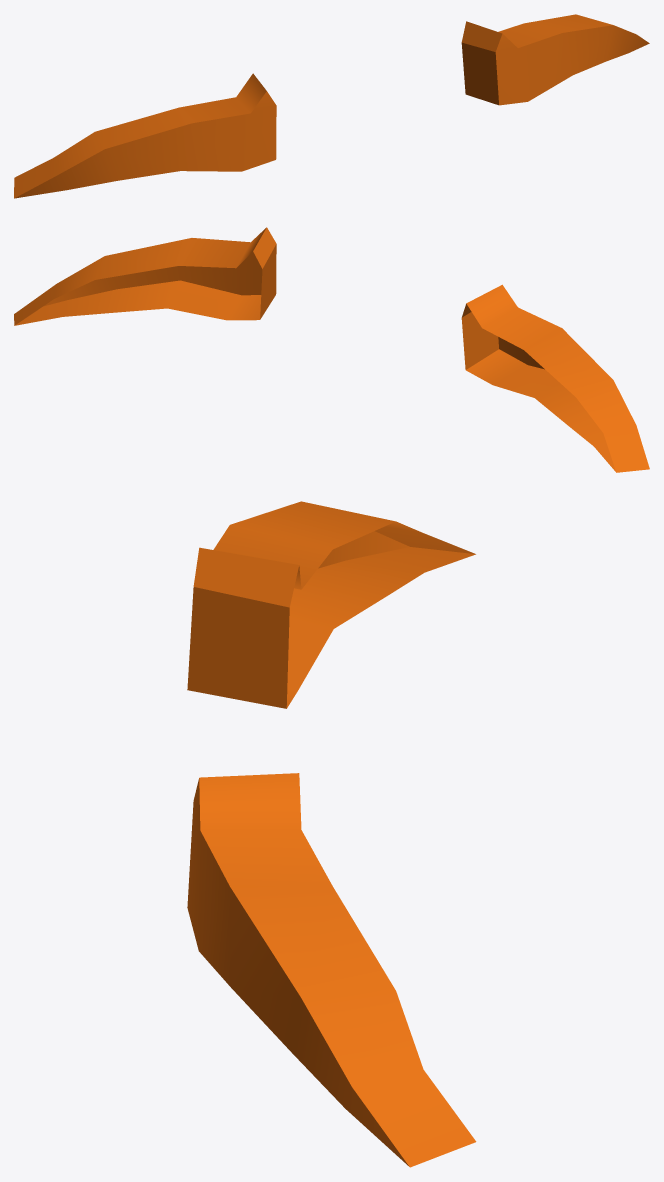
The model's file is Brow_Orange_3.fbx.
3 renders of one model, top to bottom at view 1: azimuth 30°, elevation 25°; view 2: azimuth 150°, elevation 25°; view 3: azimuth 270°, elevation 25°, orthographic. The views are drawn at different scales.
Parts seen in each view (by area): view 1: Brow_Orange_3; view 2: Brow_Orange_3; view 3: Brow_Orange_3.
Boxes of the visible parts, <box> form: Brow_Orange_3: <box>14,14,649,198</box>; Brow_Orange_3: <box>14,227,649,472</box>; Brow_Orange_3: <box>187,501,476,1167</box>.
Bounding box in the file's own units: 32.72 × 4.78 × 6.44.
